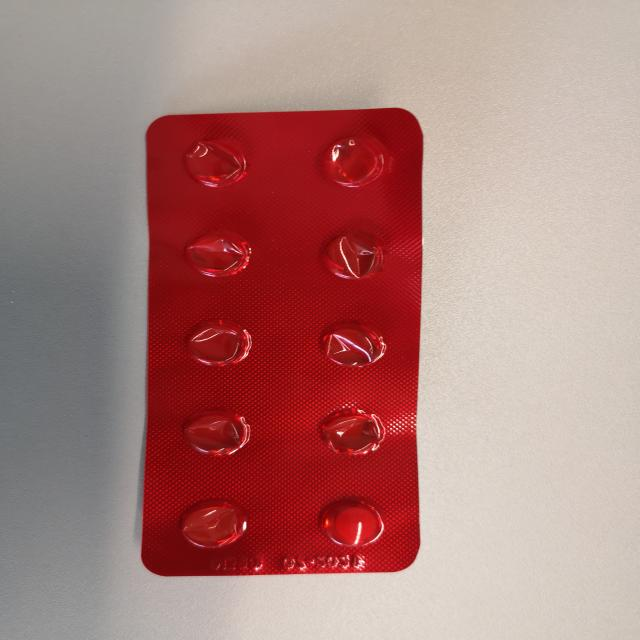Empty: (165, 493, 262, 555), (168, 129, 260, 192), (314, 126, 398, 193), (310, 224, 398, 286), (172, 314, 262, 372), (307, 403, 393, 463), (176, 400, 256, 461), (312, 318, 396, 374), (176, 231, 262, 284)
Pill: (306, 492, 402, 556)
